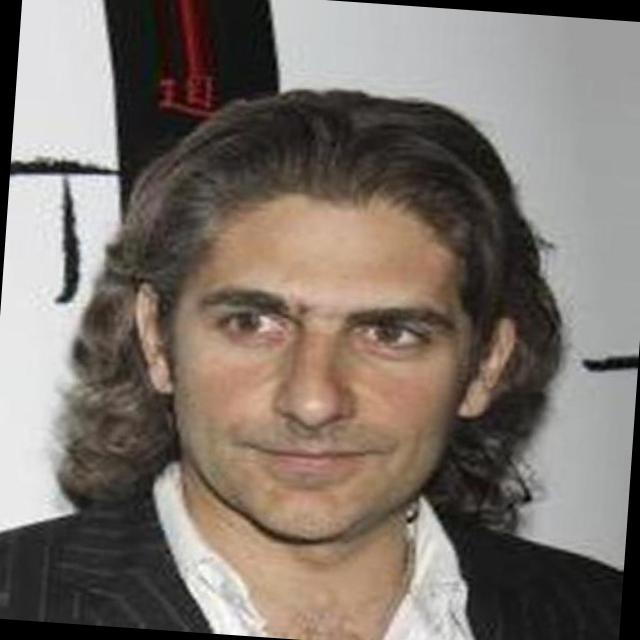bareface: (140, 227, 488, 544)
